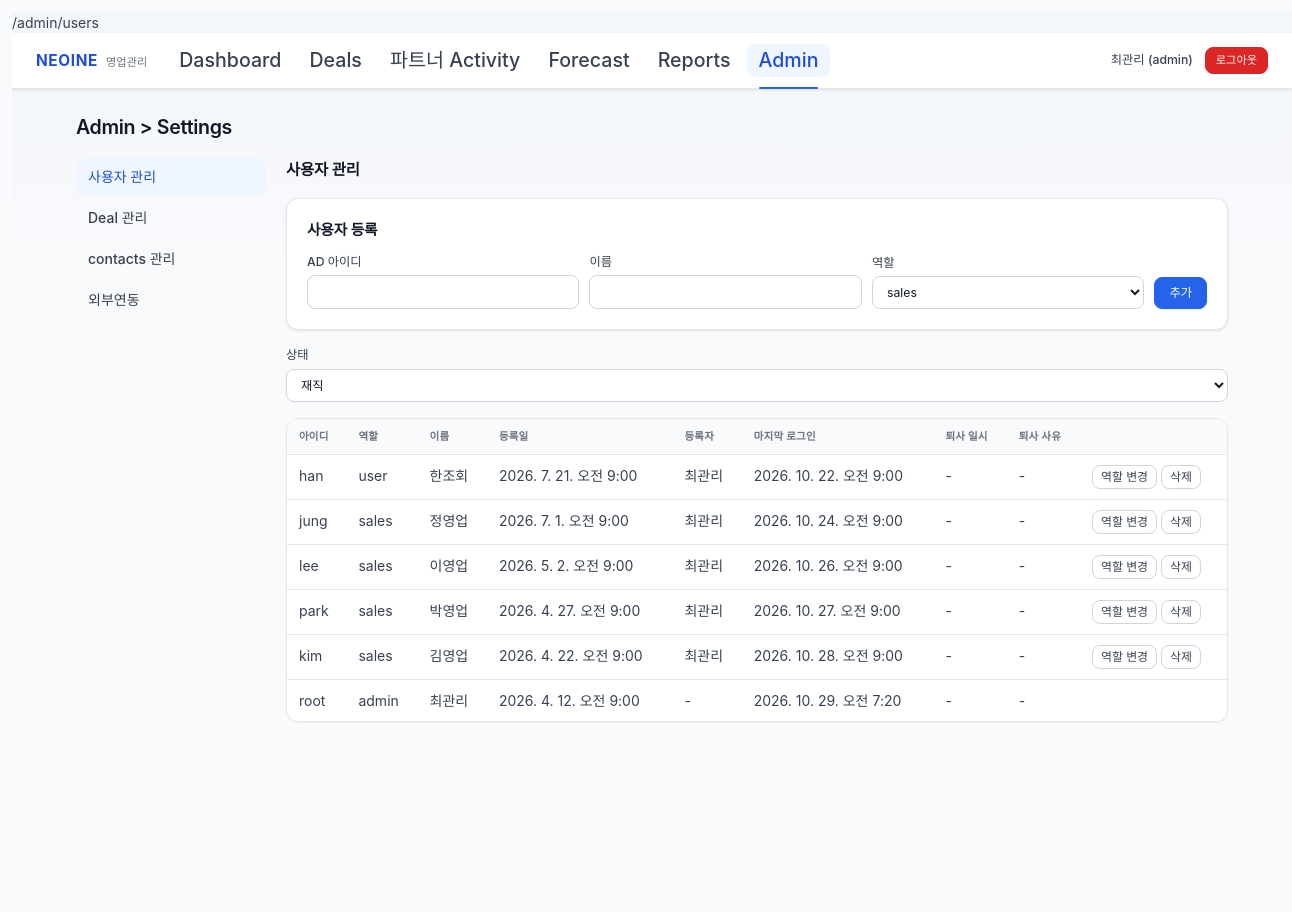
it: Admin 공통 틀 (T-ADMIN-13) › moves between pages with the sub menu
The width and height of the screenshot is (1292, 912).
Click the link "외부연동": [114, 300] box [88,291,140,308]
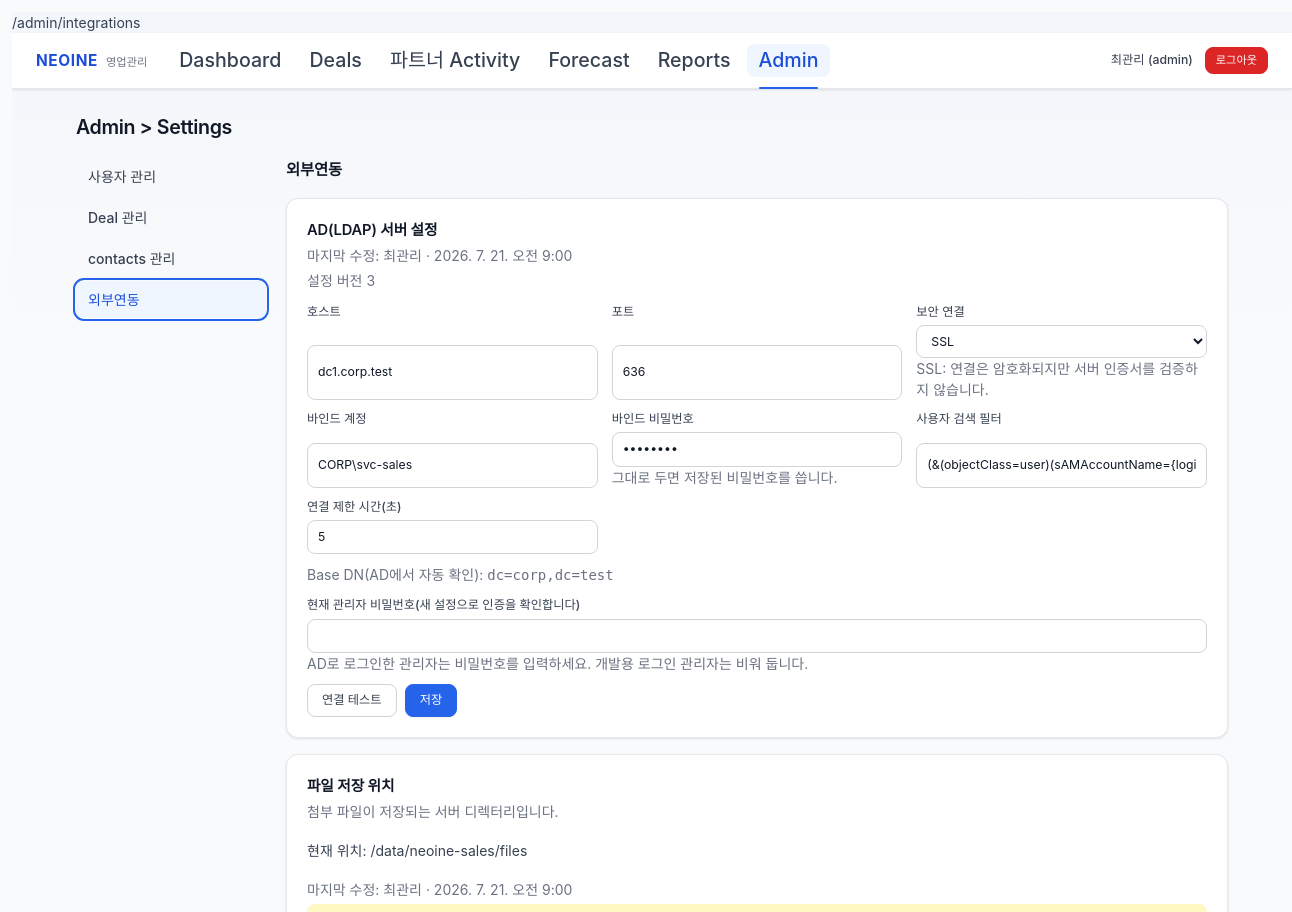
Check: the text with test id "location" reads "/admin/integrations", box [12,14,140,31]
